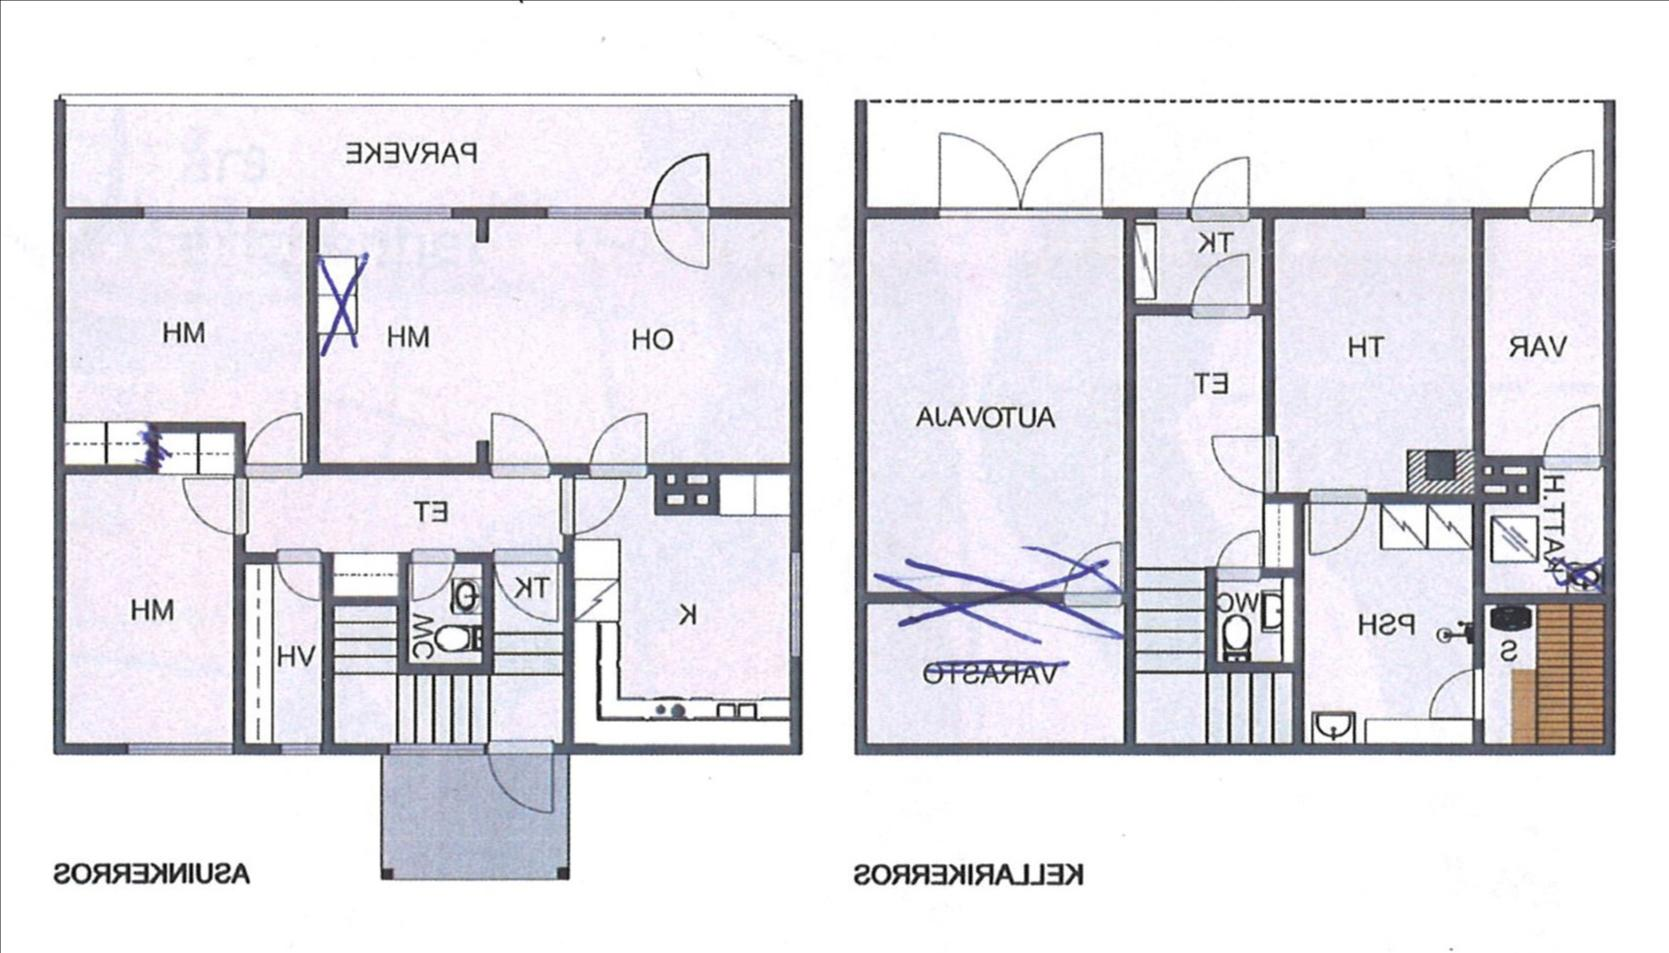bathroom: (403, 553, 488, 671), (1208, 571, 1299, 671)
door: (1019, 126, 1107, 232), (933, 126, 1024, 224), (1522, 143, 1599, 224), (484, 734, 557, 815), (489, 542, 557, 627), (1183, 151, 1256, 227), (1055, 537, 1128, 611), (553, 470, 630, 540), (1206, 430, 1284, 499), (1303, 483, 1371, 560), (643, 147, 716, 217), (579, 409, 655, 477), (481, 408, 556, 476), (177, 475, 254, 539), (1188, 250, 1255, 319), (1541, 401, 1609, 469), (240, 408, 305, 475), (648, 208, 712, 273), (1209, 524, 1267, 588), (1424, 664, 1488, 721), (403, 542, 457, 602), (272, 547, 326, 603)
perimeter: (853, 204, 1619, 753), (52, 204, 806, 756)
stairs: (1130, 563, 1206, 673), (1204, 669, 1296, 745), (394, 675, 488, 745), (334, 603, 395, 677), (493, 632, 562, 673)
window: (338, 196, 463, 229), (541, 194, 651, 231), (122, 731, 235, 765), (135, 197, 254, 229), (1356, 197, 1473, 229), (783, 545, 809, 665), (385, 733, 488, 753), (275, 735, 331, 763), (1152, 200, 1192, 224)
